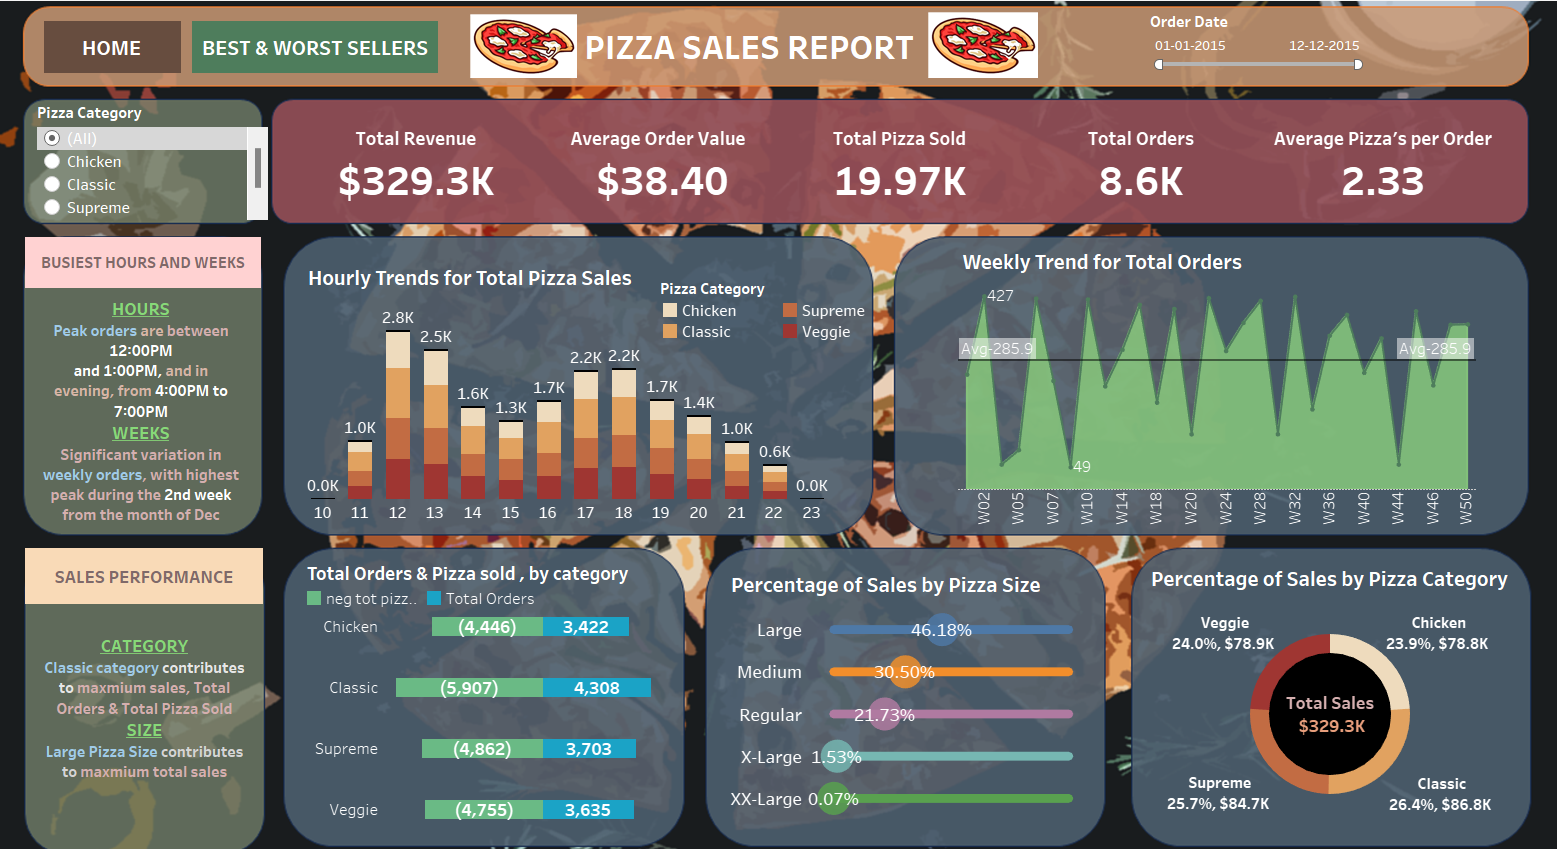

The page's visual inventory and layout, read from the dashboard file:
{"tool":"tableau","page":{"name":"HOME","canvas":[1600,900],"ordinal":1},"visuals":[{"type":"image","param":"C:/Users/harshita/OneDrive/Desktop/SQL+Tableau/bd3/Slide1.PNG","box":[8,8,1584,884]},{"type":"filter","title":"Hourly Trends for Total Pizza Sales","param":"[federated.1xeea4k1yl7bp71epdgjh0e7w4b1].[none:order_date:qk]","box":[1171,30,217,113]},{"type":"image","param":"C:/Users/harshita/OneDrive/Desktop/SQL+Tableau/pizza.png","box":[949,31,110,86]},{"type":"image","param":"C:/Users/harshita/OneDrive/Desktop/SQL+Tableau/pizza.png","box":[491,32,107,67]},{"type":"text","box":[602,39,337,52]},{"type":"dashboard-object","box":[65,40,137,52]},{"type":"dashboard-object","box":[213,40,246,52]},{"type":"filter","title":"Hourly Trends for Total Pizza Sales","param":"[federated.1xeea4k1yl7bp71epdgjh0e7w4b1].[none:pizza_category:nk]","box":[58,121,231,118]},{"type":"worksheet","title":"KPI Banner","mark":"Automatic","box":[316,129,1209,97]},{"type":"text","box":[46,256,236,51]},{"type":"worksheet","title":"Weekly Trend for Total Orders","mark":"Area","rows":["Calculation_1255378442649346050","Calculation_1255378442649346050"],"cols":["order_date"],"box":[979,262,518,283]},{"type":"worksheet","title":"Hourly Trends for Total Pizza Sales","mark":"Bar","rows":["Calculation_1255378442649767940","Calculation_1255378442649767940"],"cols":["order_time"],"box":[325,278,527,265]},{"type":"legend","title":"Hourly Trends for Total Pizza Sales","param":"[federated.1xeea4k1yl7bp71epdgjh0e7w4b1].[none:pizza_category:nk]","box":[681,297,280,76]},{"type":"text","box":[44,305,236,256]},{"type":"text","box":[46,567,238,56]},{"type":"worksheet","title":"Total Orders & Pizza sold , by category ","mark":"Automatic","rows":["pizza_category"],"box":[324,575,361,284]},{"type":"worksheet","title":"Percentage of Sales by Pizza Category ","mark":"Pie","rows":["Calculation_1255378442736967687","Calculation_1255378442737025033"],"box":[1168,579,366,266]},{"type":"worksheet","title":"Percentage of Sales by Pizza Size ","mark":"Line","rows":["pizza_size"],"box":[748,585,358,254]},{"type":"legend","title":"Total Orders & Pizza sold , by category ","param":"[federated.1xeea4k1yl7bp71epdgjh0e7w4b1].[:Measure Names]","box":[253,607,369,36]},{"type":"text","box":[62,653,207,151]}]}

Visuals, with their boxes on the page's 1600x900 design canvas (x1, y1, x2, y2). These are canvas units, not pixel positions in the 1557x849 screenshot, which may show the page scaled, cropped or inside an application window:
image: locate(8, 8, 1592, 892)
"Hourly Trends for Total Pizza Sales" filter: locate(1171, 30, 1388, 143)
image: locate(949, 31, 1059, 117)
image: locate(491, 32, 598, 99)
text: locate(602, 39, 939, 91)
dashboard-object: locate(65, 40, 202, 92)
dashboard-object: locate(213, 40, 459, 92)
"Hourly Trends for Total Pizza Sales" filter: locate(58, 121, 289, 239)
"KPI Banner" worksheet: locate(316, 129, 1525, 226)
text: locate(46, 256, 282, 307)
"Weekly Trend for Total Orders" worksheet (Area marks): locate(979, 262, 1497, 545)
"Hourly Trends for Total Pizza Sales" worksheet (Bar marks): locate(325, 278, 852, 543)
"Hourly Trends for Total Pizza Sales" legend: locate(681, 297, 961, 373)
text: locate(44, 305, 280, 561)
text: locate(46, 567, 284, 623)
"Total Orders & Pizza sold , by category " worksheet: locate(324, 575, 685, 859)
"Percentage of Sales by Pizza Category " worksheet (Pie marks): locate(1168, 579, 1534, 845)
"Percentage of Sales by Pizza Size " worksheet (Line marks): locate(748, 585, 1106, 839)
"Total Orders & Pizza sold , by category " legend: locate(253, 607, 622, 643)
text: locate(62, 653, 269, 804)
